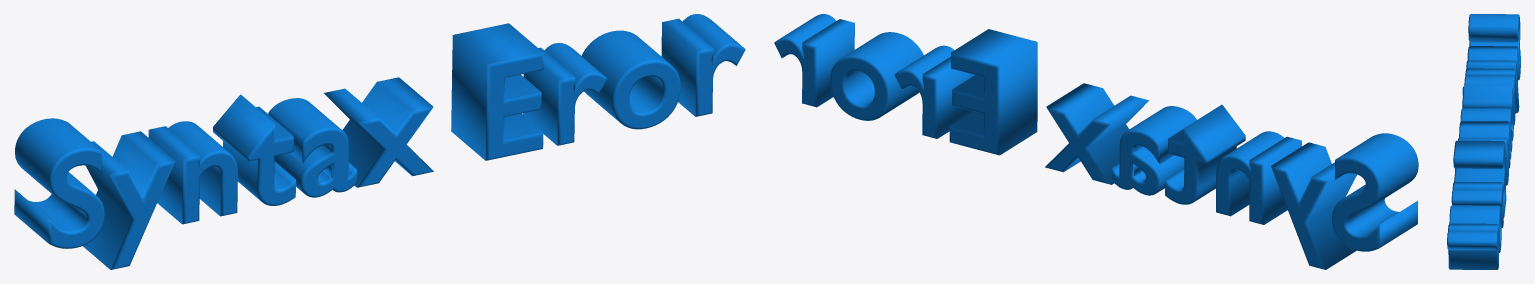
Rendered from syntax_error.glb.
3 renders of one model, left to right at view 1: azimuth 30°, elevation 25°; view 2: azimuth 150°, elevation 25°; view 3: azimuth 270°, elevation 25°, orthographic. The views are drawn at different scales.
Visible parts, largest first — view 1: Text; view 2: Text; view 3: Text.
Part boxes in pixels (x1,y1,x2,y2): Text: (14,14,745,269); Text: (774,14,1418,269); Text: (1447,14,1520,269).
Size of the model in its own units: 5.31 by 0.9726 by 0.7974.
